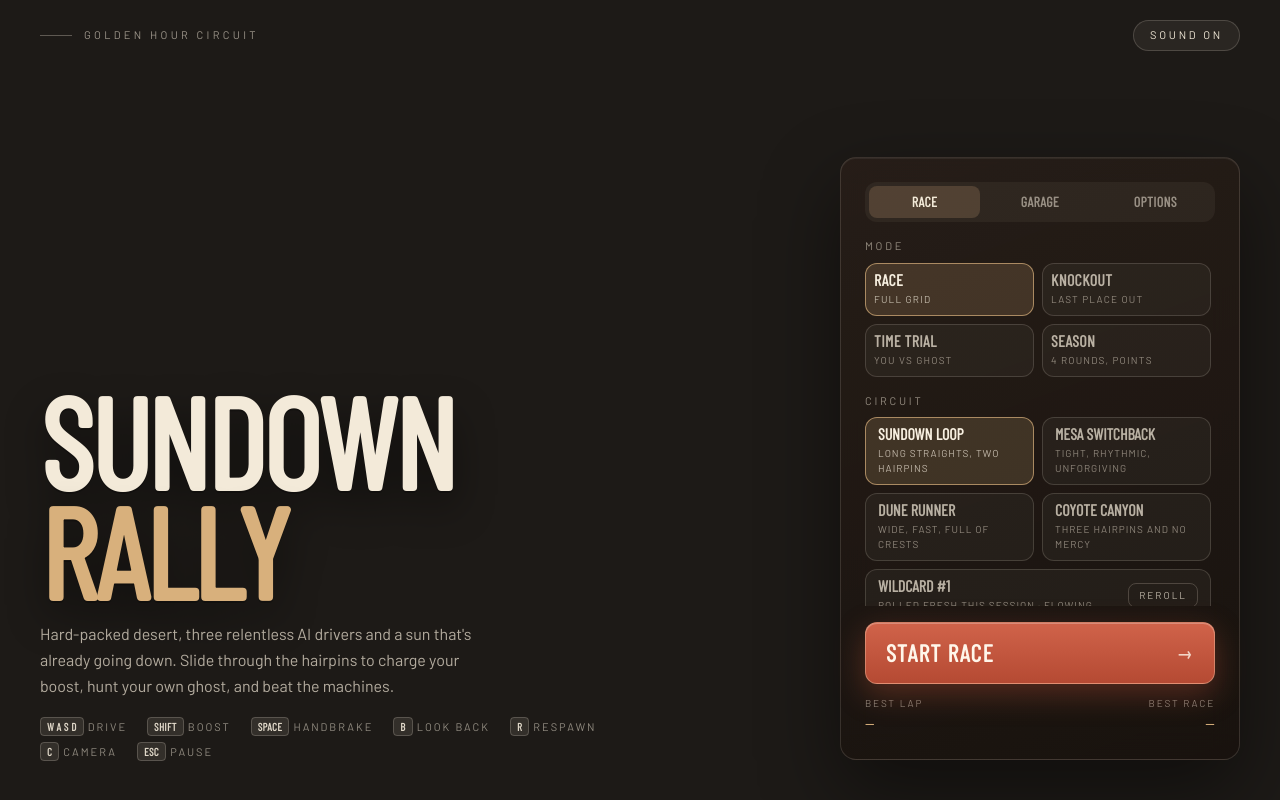
Test: screens render without crashing › offers knockout in the menu and explains the rules
Click the radio button labelled "Knockout Last place out". click: (1126, 289)
box: [1042, 262, 1211, 316]
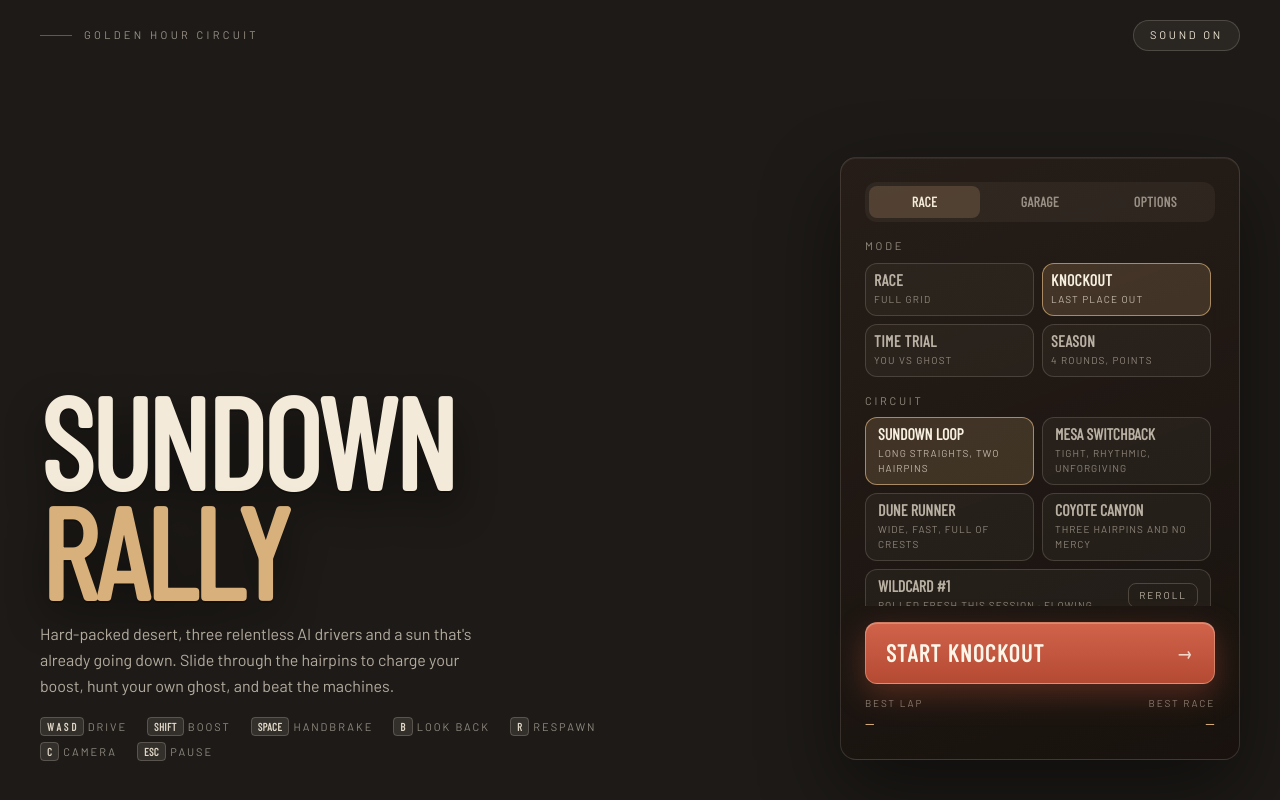
Expected: the button "Start knockout →" is shown, [865, 622, 1215, 684]
